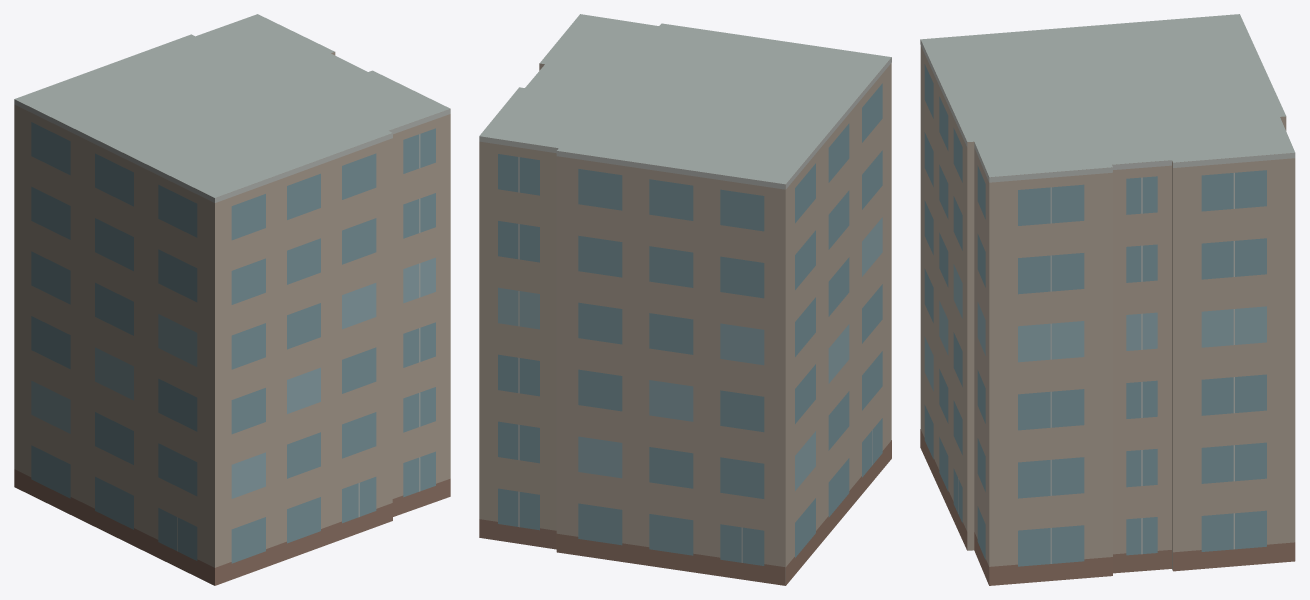
The model's file is survey-upis-32976630.glb.
3 renders of one model, left to right at view 1: azimuth 30°, elevation 25°; view 2: azimuth 150°, elevation 25°; view 3: azimuth 270°, elevation 25°, orthographic. The views are drawn at different scales.
Visible parts, largest first — view 1: survey-upis-32976630.tmp; view 2: survey-upis-32976630.tmp; view 3: survey-upis-32976630.tmp.
Part boxes in pixels (bbox=[...]): survey-upis-32976630.tmp: bbox=[14, 14, 450, 585]; survey-upis-32976630.tmp: bbox=[479, 14, 891, 585]; survey-upis-32976630.tmp: bbox=[920, 14, 1295, 585].
Size of the model in its own units: 15.69 by 18.3 by 15.22.
